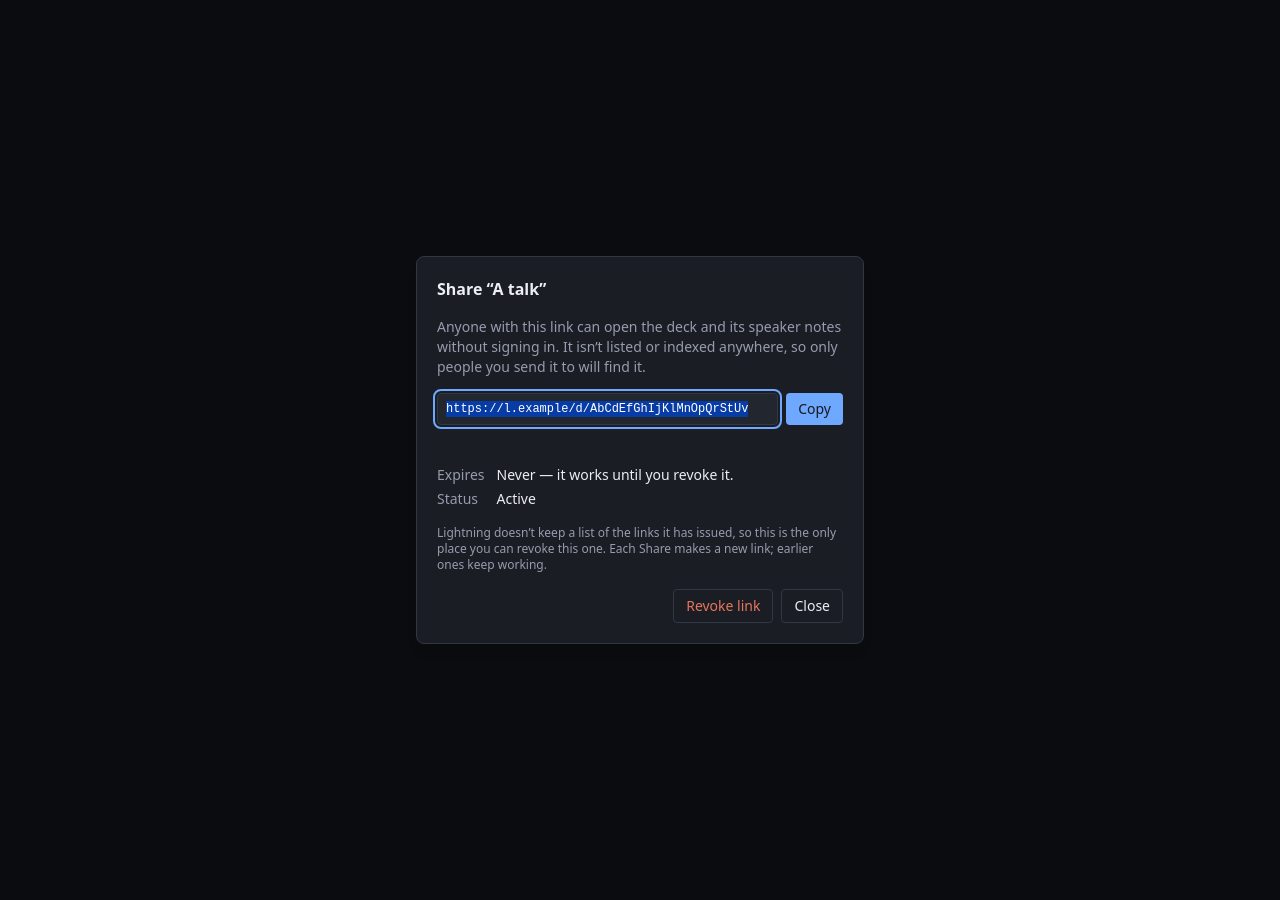
Scenario: ShareDialog › copies the link and says so
Click the button "Copy" at (815, 409), box [786,393,843,425]
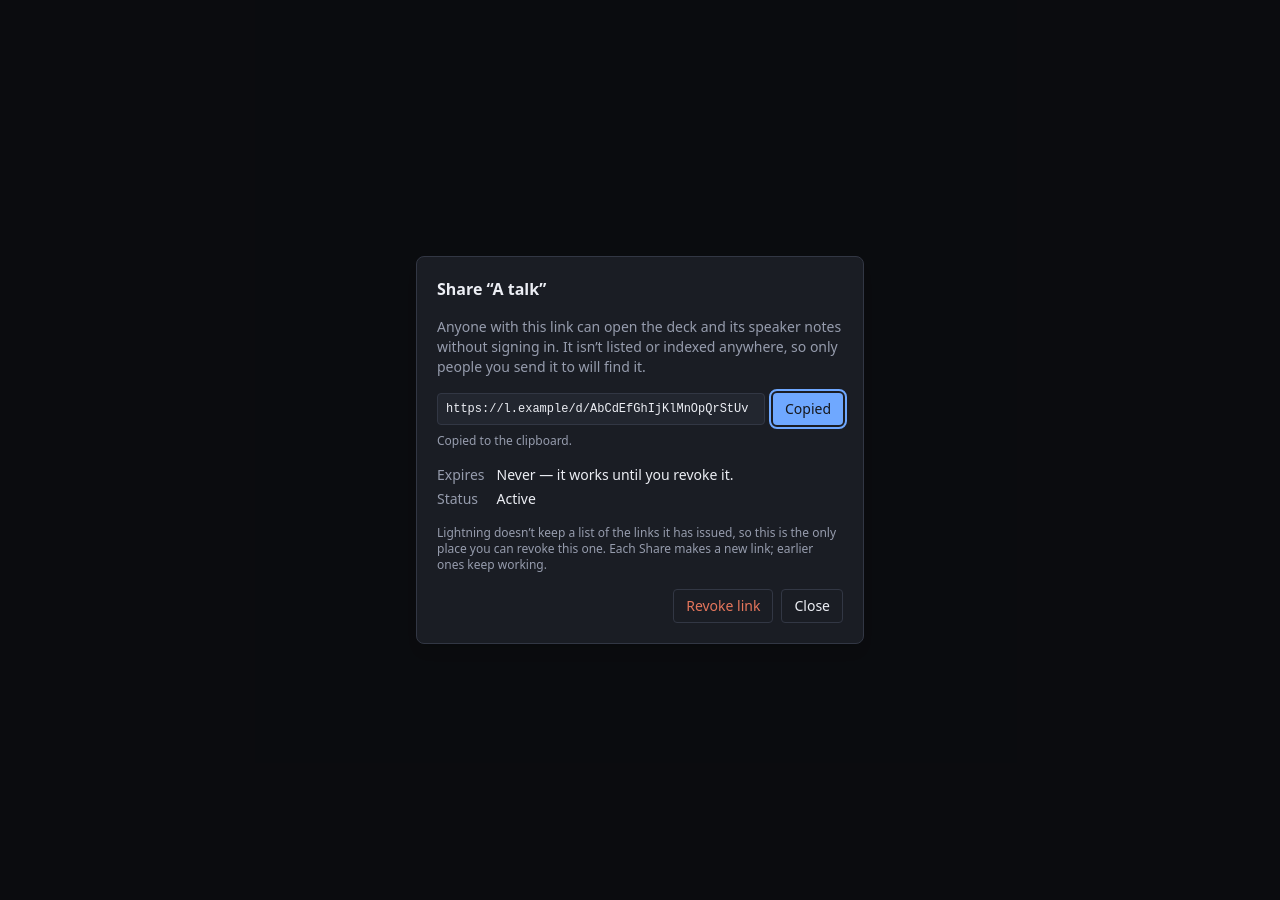
Expected: the button "Copied" is shown, [773,393,843,425]
Expected: the text "Copied to the clipboard." is shown, [437,432,572,449]
